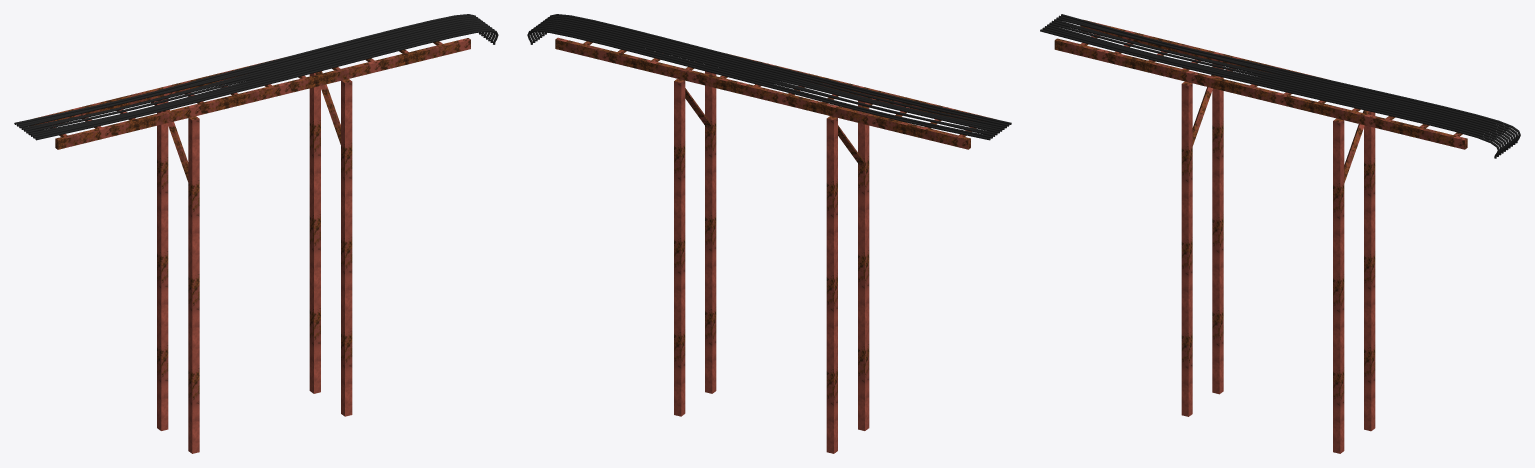
The model's file is D22c_Cable_Bridge.fbx.
3 renders of one model, left to right at view 1: azimuth 30°, elevation 25°; view 2: azimuth 150°, elevation 25°; view 3: azimuth 330°, elevation 25°, orthographic.
Visible parts, largest first — view 1: Bridge_Rail, Bridge_Post, Bridge_Post.002, Bridge_Post.001, Bridge_Post.003, Bridge_Cable_0, Bridge_Cable_4, Bridge_Cable_5, Bridge_Cable_1, Bridge_Cable_7, Bridge_Cable_9, Bridge_Cable_3 (+4 smaller); view 2: Bridge_Rail.001, Bridge_Post.001, Bridge_Post.003, Bridge_Post.002, Bridge_Post, Bridge_Cable_9, Bridge_Cable_7, Bridge_Cable_5, Bridge_Cable_8, Bridge_Cable_1, Bridge_Cable_2, Bridge_Cable_0 (+4 smaller); view 3: Bridge_Rail, Bridge_Post, Bridge_Post.002, Bridge_Post.003, Bridge_Post.001, Bridge_Cable_0, Bridge_Cable_5, Bridge_Cable_7, Bridge_Cable_4, Bridge_Cable_9, Bridge_Cable_1, Bridge_Cable_3 (+4 smaller).
Boxes of the visible parts, box(x1,y1,x2,y2) form: Bridge_Rail: box(55, 38, 470, 149); Bridge_Post: box(188, 116, 199, 453); Bridge_Post.002: box(341, 79, 352, 416); Bridge_Post.001: box(157, 98, 168, 430); Bridge_Post.003: box(309, 73, 320, 393); Bridge_Cable_0: box(35, 29, 498, 140); Bridge_Cable_4: box(26, 22, 487, 133); Bridge_Cable_5: box(23, 21, 485, 131); Bridge_Cable_1: box(33, 27, 495, 138); Bridge_Cable_7: box(19, 17, 480, 128); Bridge_Cable_9: box(14, 14, 475, 124); Bridge_Cable_3: box(28, 24, 490, 135); Bridge_Rail.001: box(555, 37, 970, 149); Bridge_Post.001: box(826, 116, 837, 453); Bridge_Post.003: box(674, 79, 685, 416); Bridge_Post.002: box(705, 71, 716, 393); Bridge_Post: box(858, 101, 869, 430); Bridge_Cable_9: box(527, 29, 990, 140); Bridge_Cable_7: box(532, 26, 995, 136); Bridge_Cable_5: box(538, 22, 999, 133); Bridge_Cable_8: box(530, 27, 992, 138); Bridge_Cable_1: box(547, 15, 1009, 126); Bridge_Cable_2: box(545, 17, 1006, 128); Bridge_Cable_0: box(550, 14, 1011, 124); Bridge_Rail: box(1054, 38, 1467, 149); Bridge_Post: box(1181, 81, 1192, 416); Bridge_Post.002: box(1333, 118, 1344, 453); Bridge_Post.003: box(1364, 111, 1375, 431); Bridge_Post.001: box(1212, 63, 1223, 394); Bridge_Cable_0: box(1040, 29, 1499, 158); Bridge_Cable_5: box(1051, 20, 1511, 150); Bridge_Cable_7: box(1056, 17, 1516, 146); Bridge_Cable_4: box(1049, 22, 1509, 151); Bridge_Cable_9: box(1061, 14, 1520, 143); Bridge_Cable_1: box(1042, 27, 1502, 156); Bridge_Cable_3: box(1047, 24, 1506, 153).
Bounding box in the file's own units: 5.15 × 3.7 × 0.68.
Materials: 2 (1 with a texture image).
